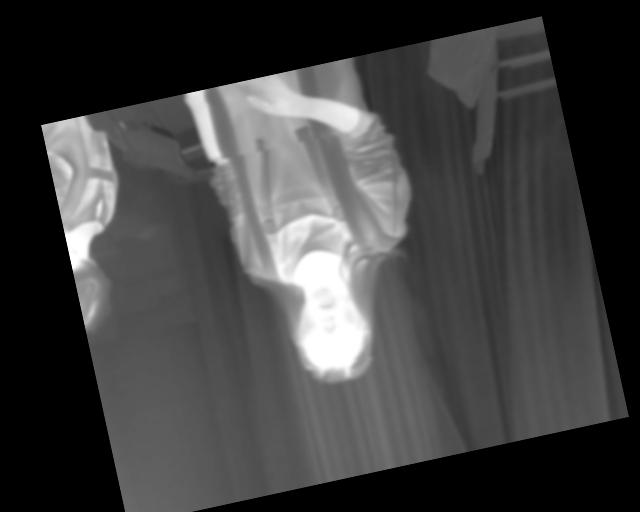face: (384, 259, 437, 329), (258, 298, 311, 363)
